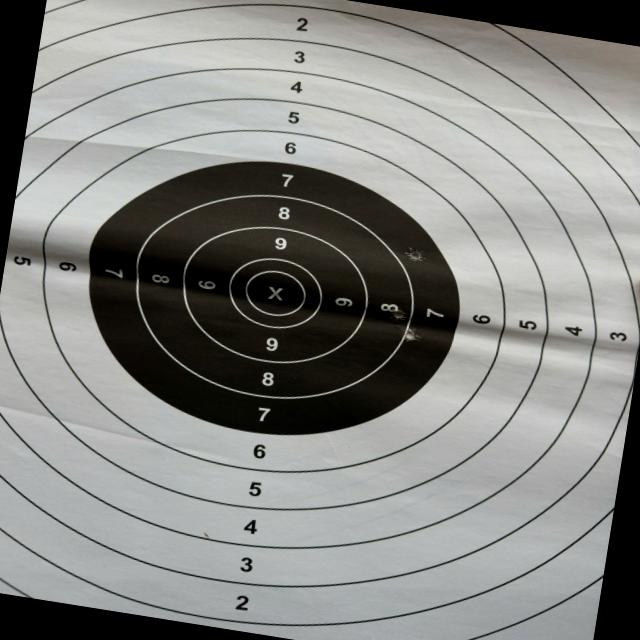bullet: (398, 308, 410, 321), (406, 330, 418, 342), (411, 250, 423, 262)
target: (0, 0, 640, 640)
